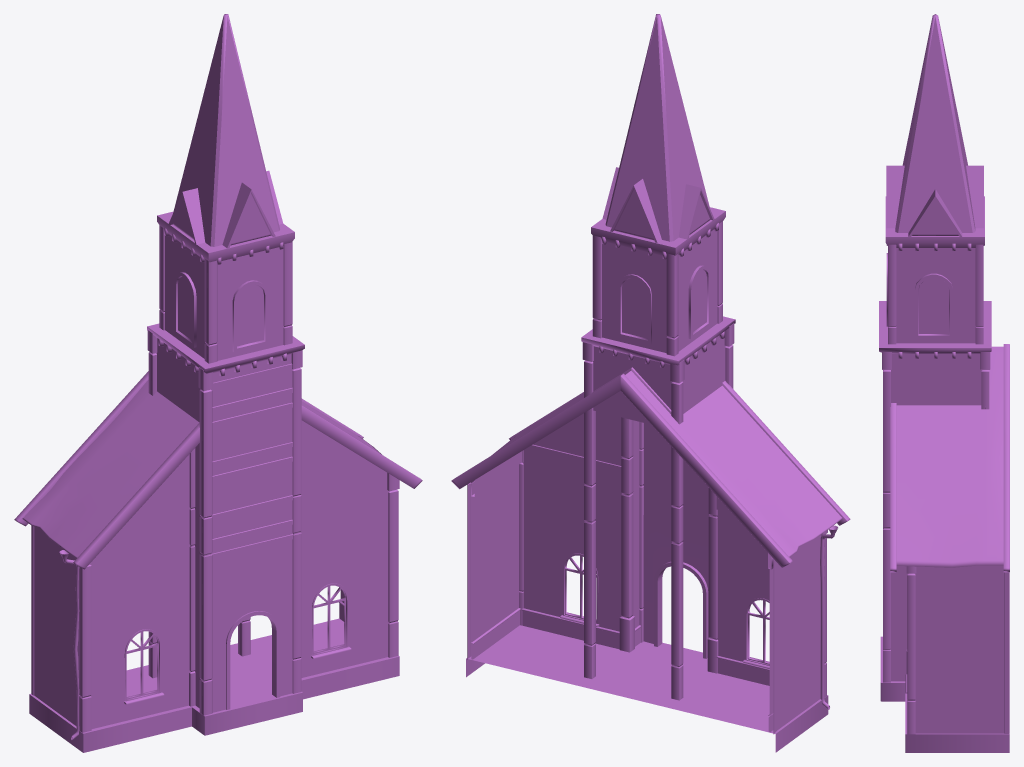
Rendered from Church1_End_A.fbx.
3 views of the same model, side by side, from view 1: azimuth 30°, elevation 25°; view 2: azimuth 150°, elevation 25°; view 3: azimuth 270°, elevation 25° (orthographic). The views are drawn at different scales.
Parts seen in each view (by area): view 1: Church1_End_A; view 2: Church1_End_A; view 3: Church1_End_A.
Part boxes in pixels (x1,y1,x2,y2): Church1_End_A: (14, 14, 422, 752); Church1_End_A: (451, 14, 850, 752); Church1_End_A: (879, 14, 1009, 752).
Bounding box in the file's own units: 18.94 × 35.79 × 6.39.
